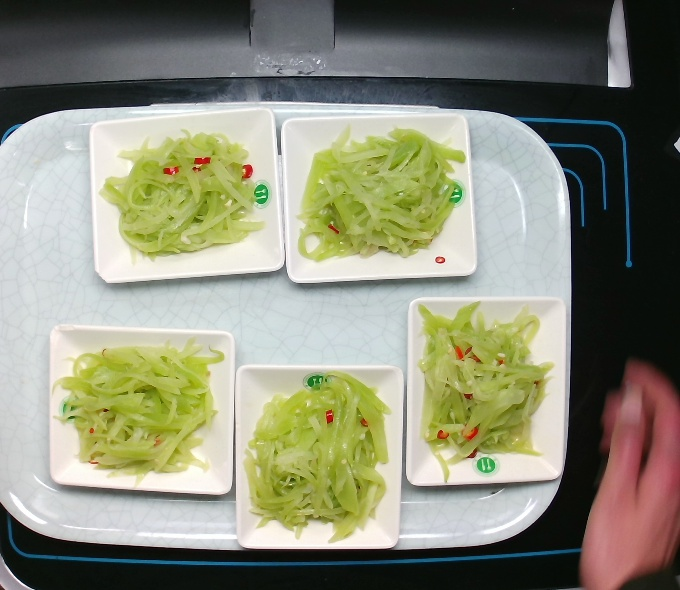wcq-YanWoSun: (100, 120, 267, 265), (293, 119, 461, 263), (246, 377, 393, 541), (402, 305, 549, 469), (59, 341, 216, 482)
